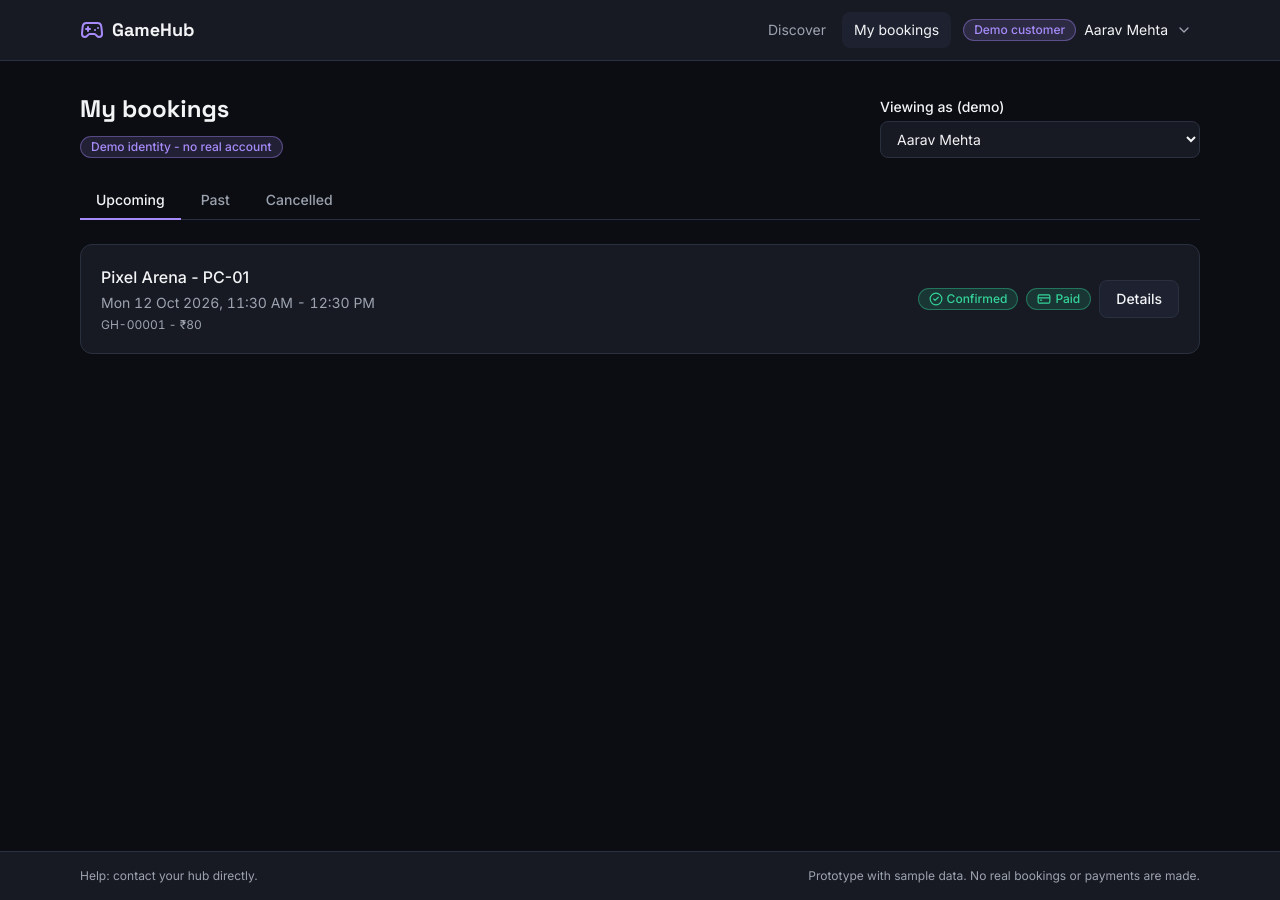
Test case: My bookings page › splits bookings into upcoming, past and cancelled for the demo customer
The width and height of the screenshot is (1280, 900).
Expected: the text "GH-00001 - ₹80" is shown, [101, 317, 202, 332]
Expected: the text "GH-00006" is not shown
Click the tab "Cancelled" at [299, 201], box [250, 182, 349, 220]
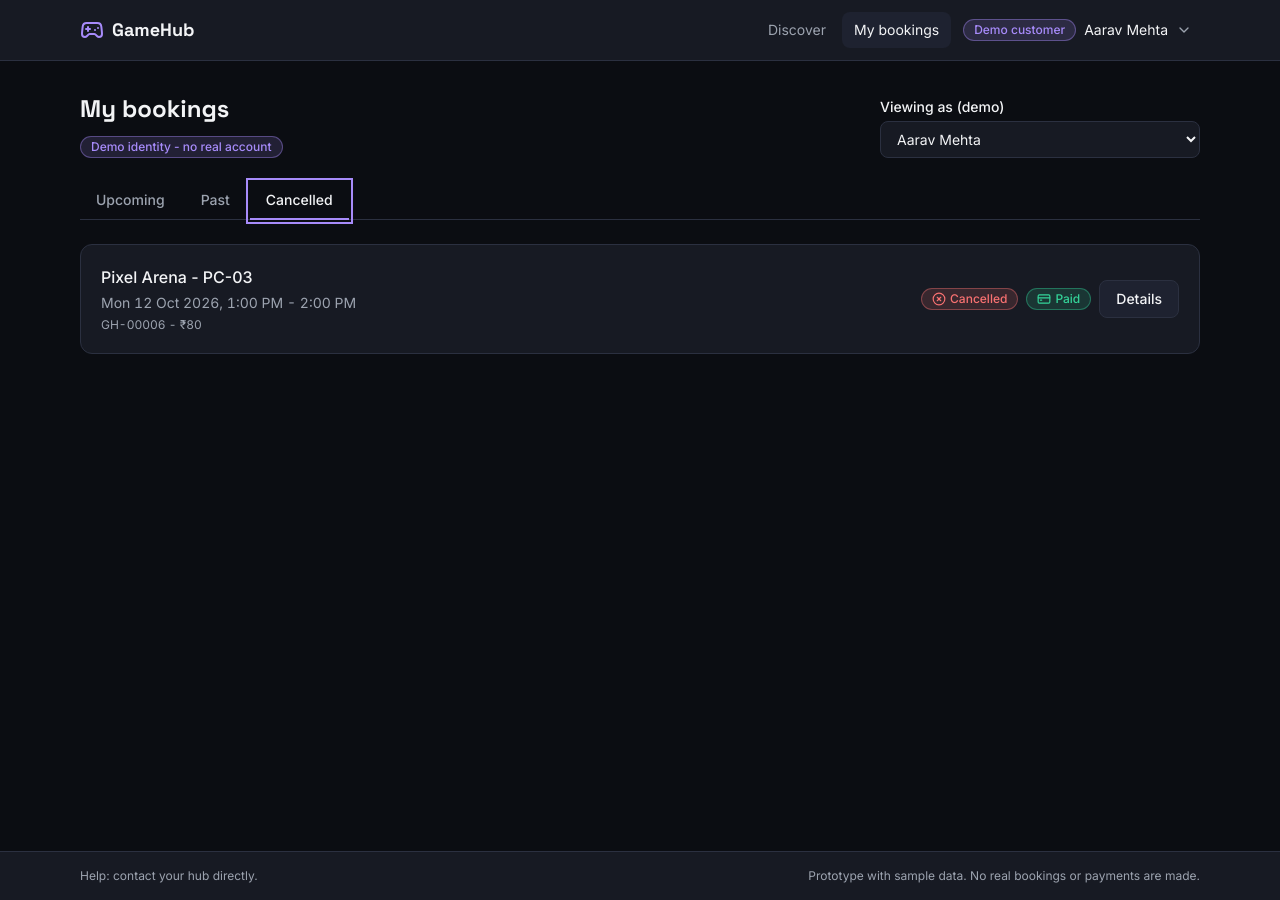
Expected: the text "GH-00006 - ₹80" is shown, [101, 317, 202, 332]
Click the tab "Past" at [215, 201], box [185, 182, 246, 220]
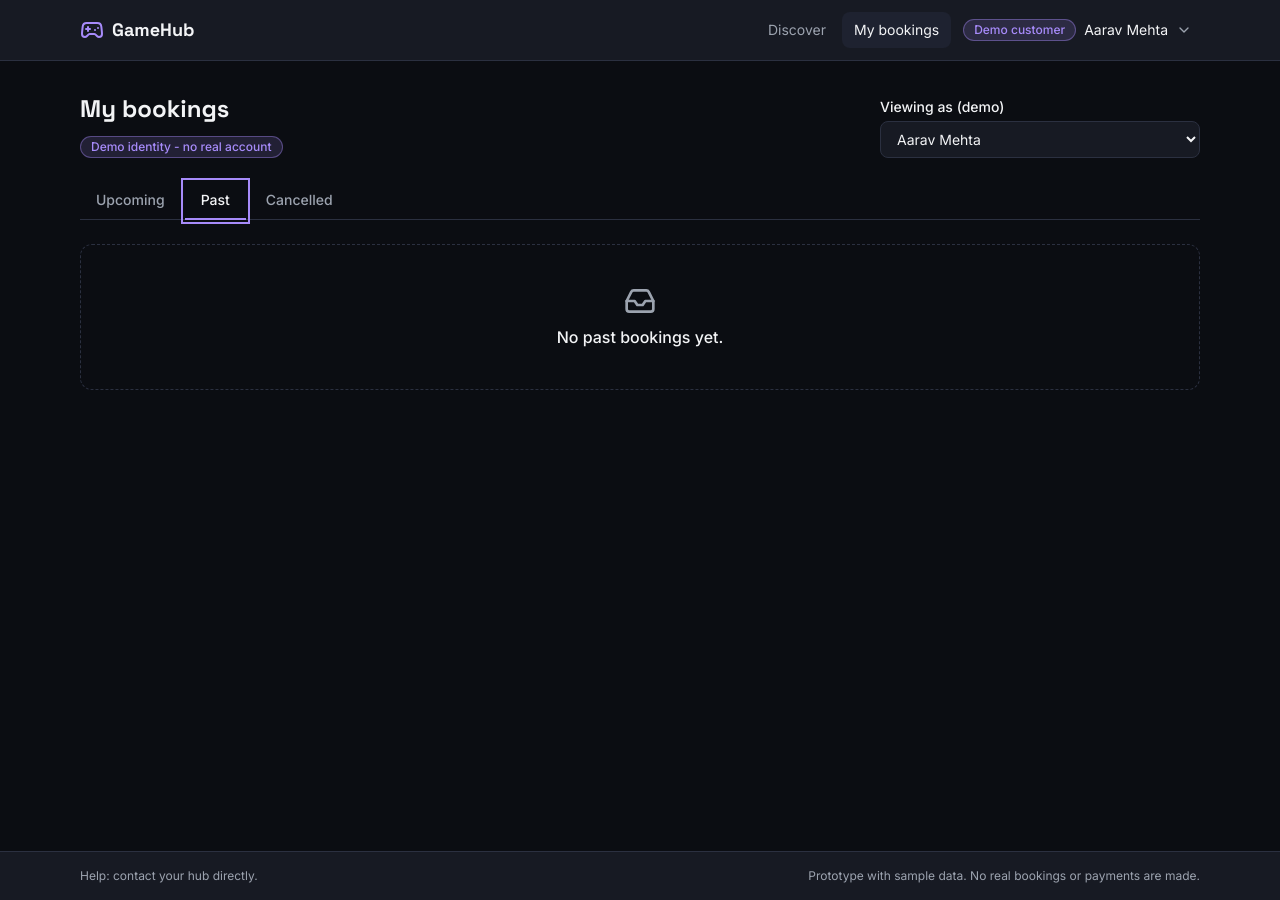
Expected: the heading "No past bookings yet." is shown, [557, 325, 723, 349]
